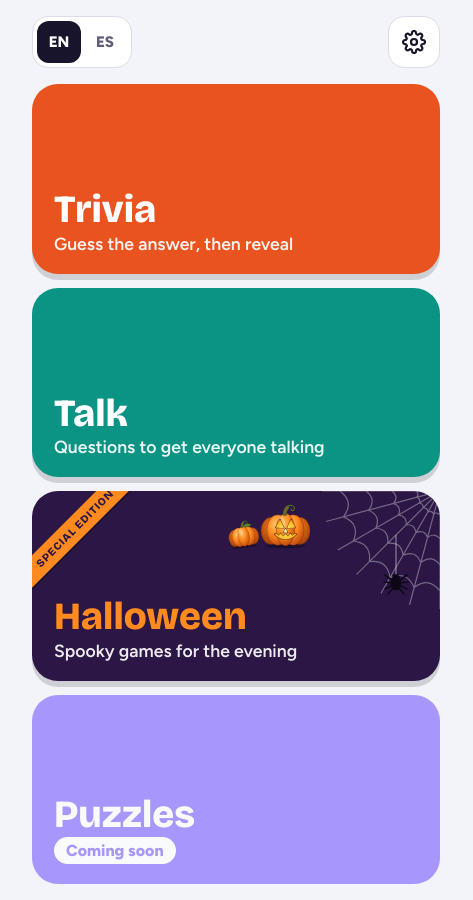
Halloween menu › brings each game's back button to the menu, not Home
The image size is (473, 900).
Click the button "Halloween Spooky games for the evening Special edition" at (150, 616), box [32,491,440,680]
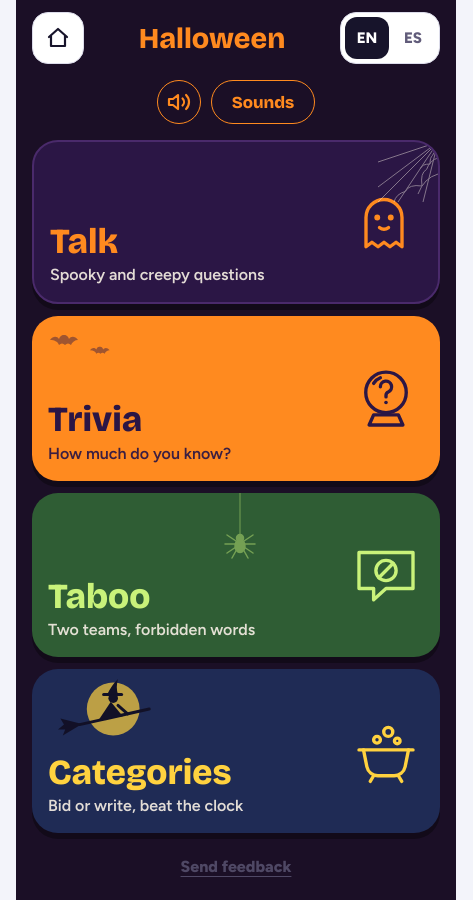
Click the button "Taboo Two teams, forbidden words" at (99, 596), box [32,492,440,657]
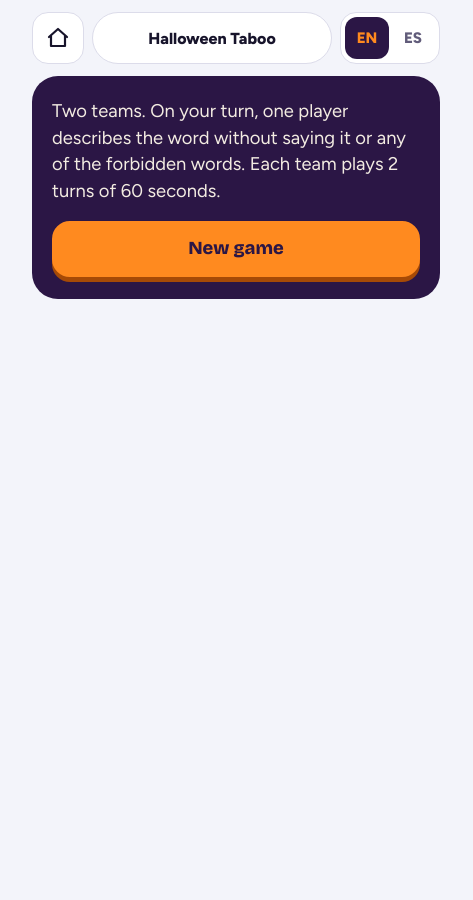
Click the button named "Halloween games" at (58, 38), box [32,12,84,64]
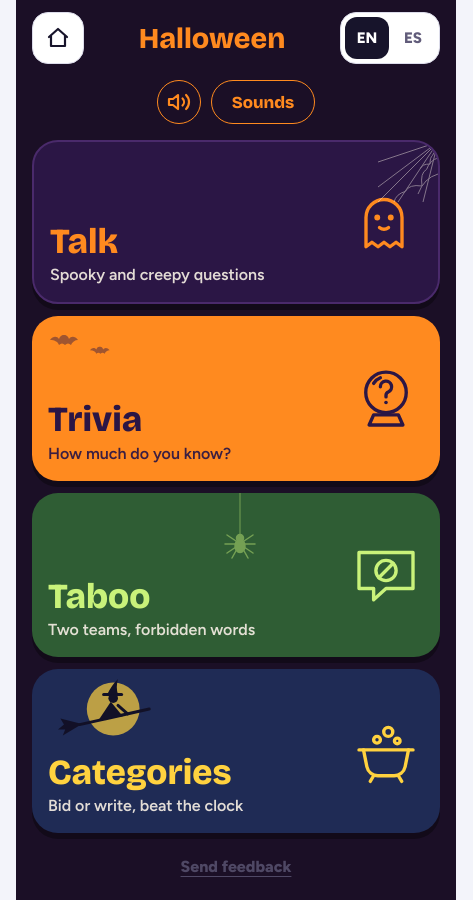
Expected: the navigation bar named "Halloween games" is shown
